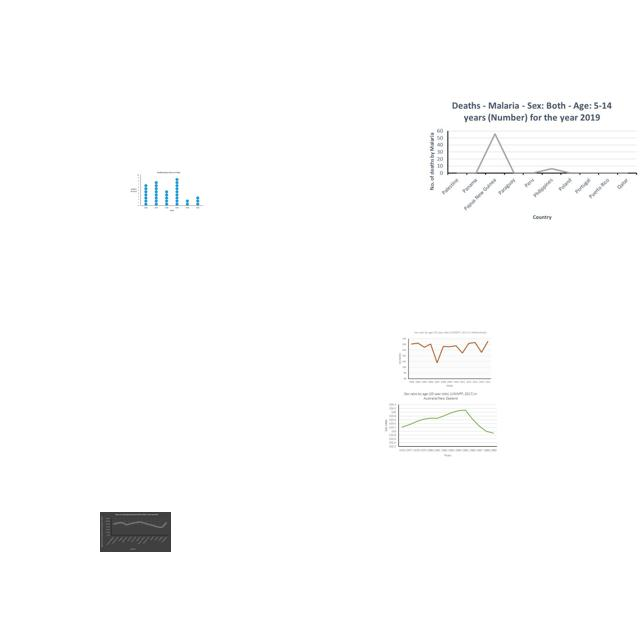Graph: (424, 97, 639, 223), (381, 390, 499, 458), (396, 330, 493, 389), (128, 169, 205, 214), (100, 512, 171, 552)
